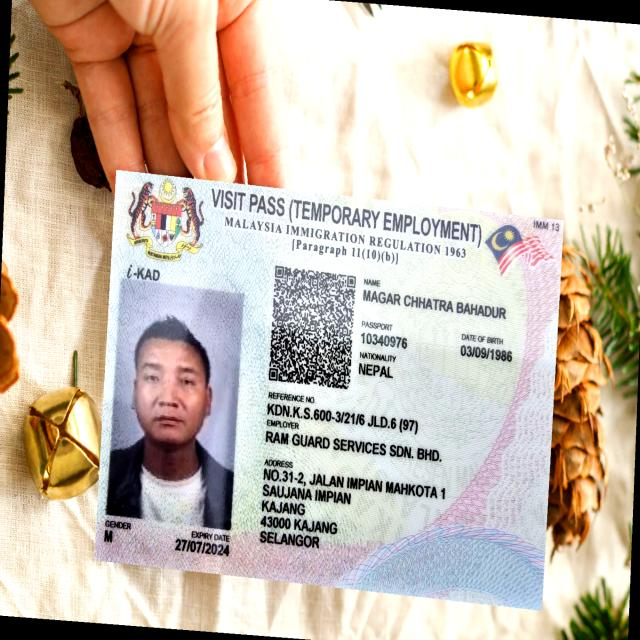ikad-temp: (94, 168, 565, 610)
